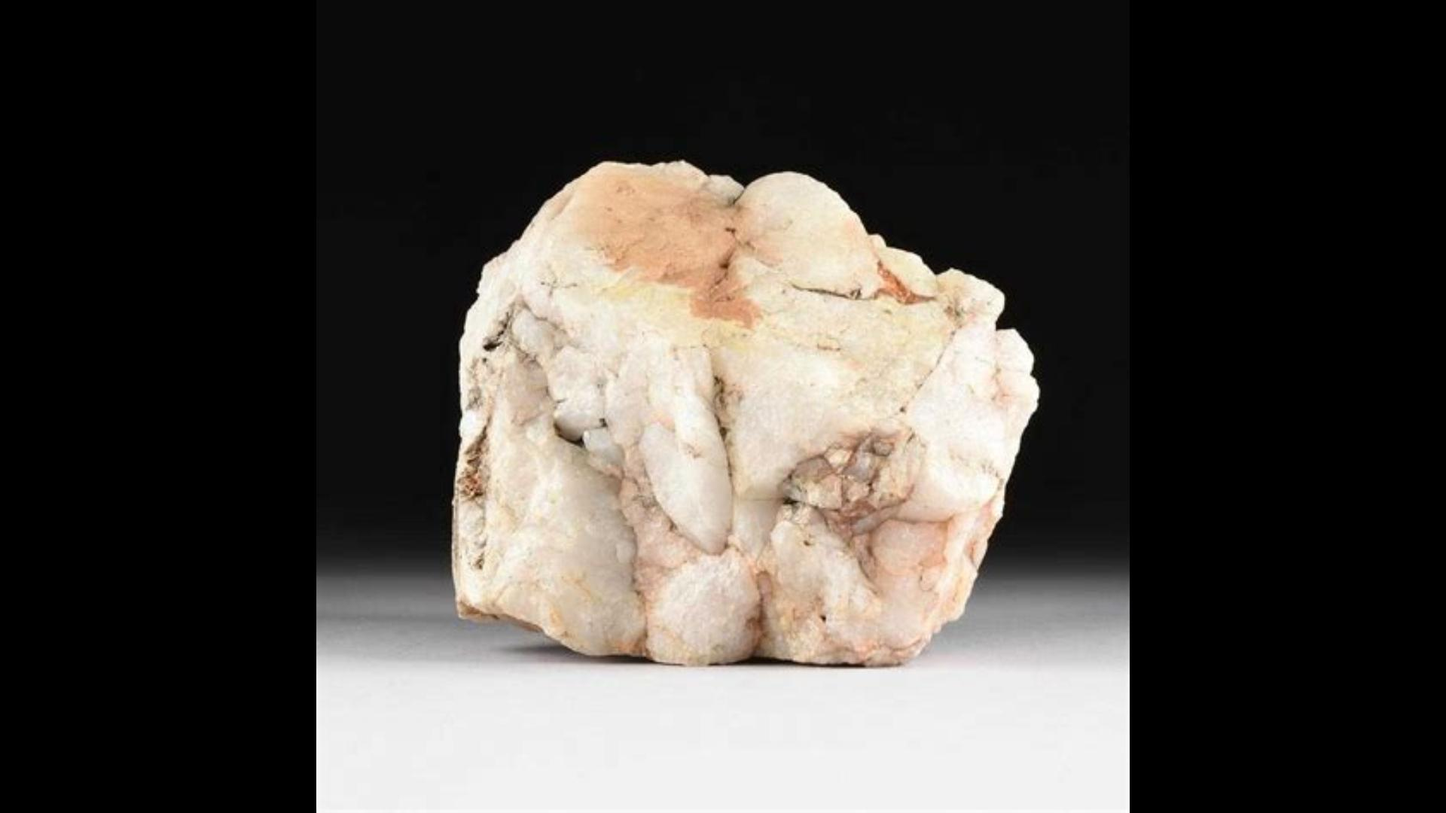rock: (460, 163, 1035, 660)
